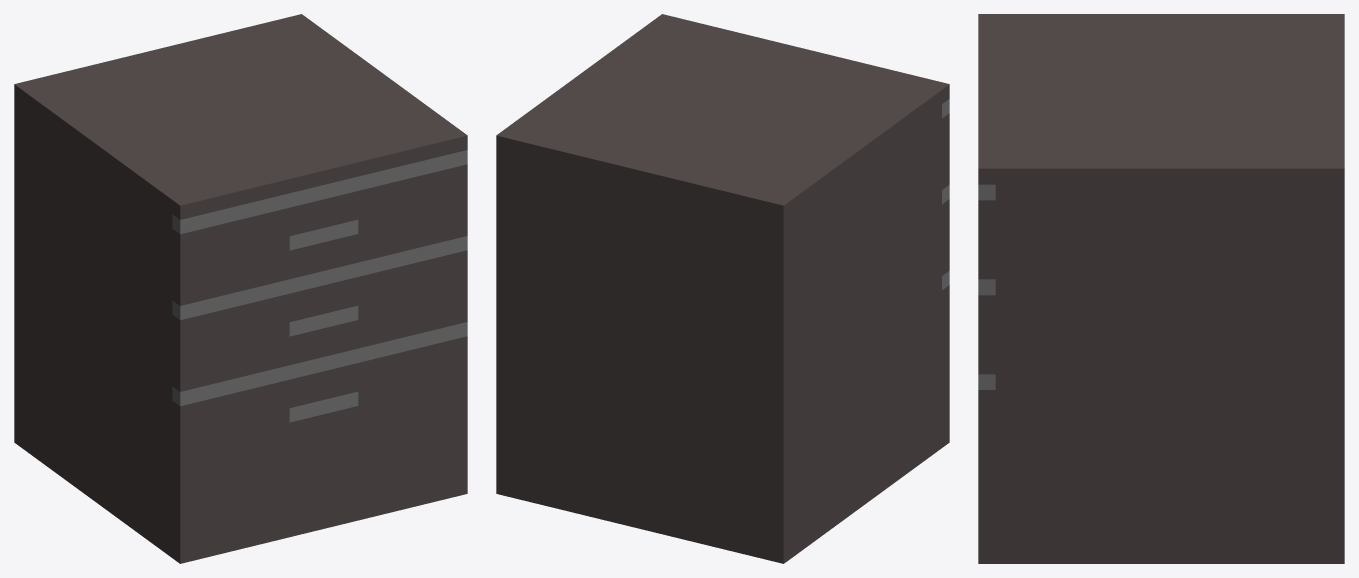
Rendered from nightstand51.obj.
The picture shows the model from 3 angles, left to right: view 1: azimuth 30°, elevation 25°; view 2: azimuth 150°, elevation 25°; view 3: azimuth 270°, elevation 25°; orthographic projection. The views are drawn at different scales.
Size of the model in its own units: 2.1 by 2.5 by 2.1.
1 material, 1 textured.
